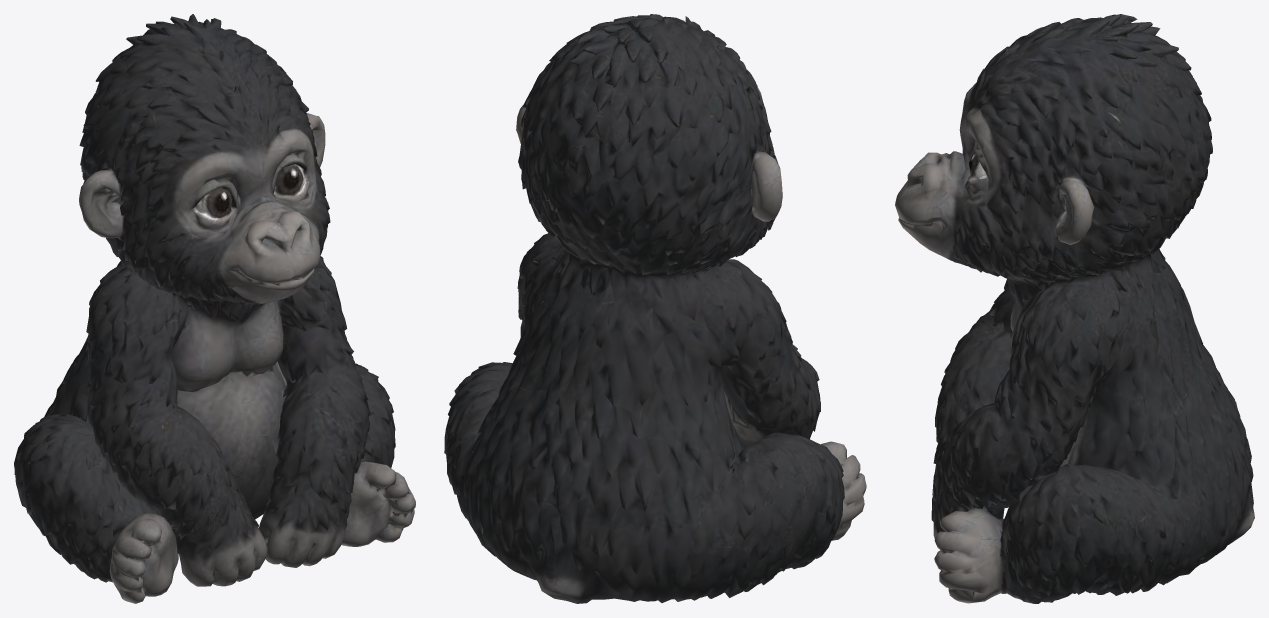
3 renders of one model, left to right at view 1: azimuth 30°, elevation 25°; view 2: azimuth 150°, elevation 25°; view 3: azimuth 270°, elevation 25°, orthographic. The views are drawn at different scales.
Size of the model in its own units: 1.41 by 1.9 by 1.2.
Materials: 1 (1 with a texture image).
